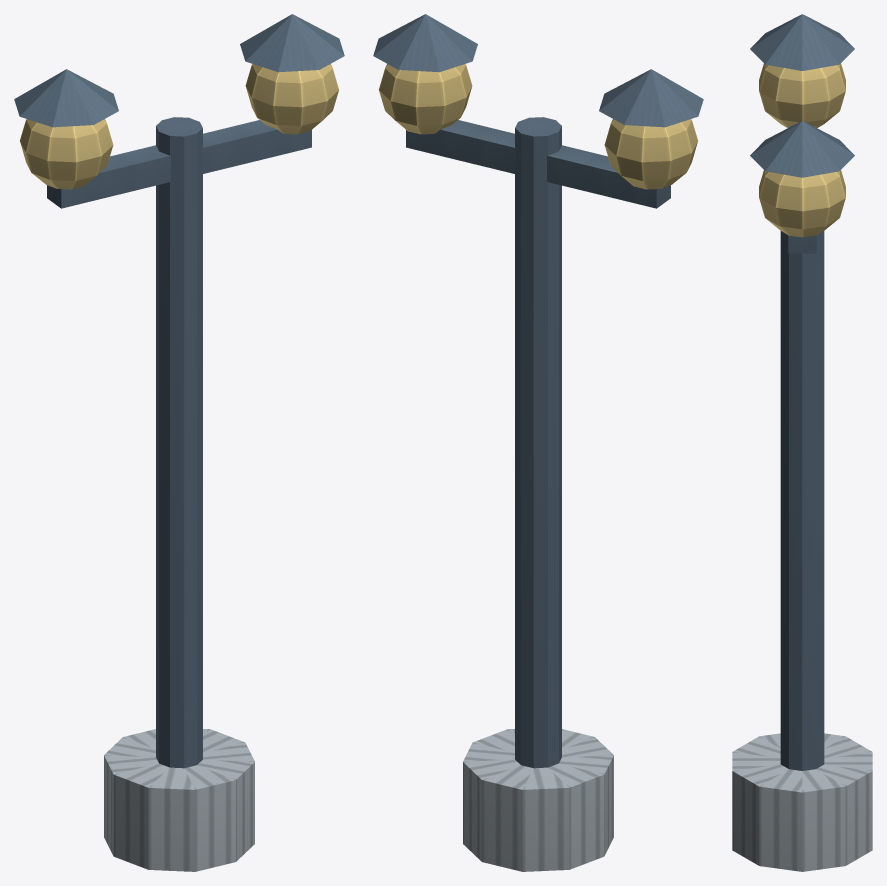
The model's file is street_lamp_vintage.glb.
The picture shows the model from 3 angles, left to right: view 1: azimuth 30°, elevation 25°; view 2: azimuth 150°, elevation 25°; view 3: azimuth 270°, elevation 25°; orthographic projection. The views are drawn at different scales.
Visible parts, largest first — view 1: street_lamp_vintage; view 2: street_lamp_vintage; view 3: street_lamp_vintage.
Boxes of the visible parts, <box> form: street_lamp_vintage: <box>14,14,344,871</box>; street_lamp_vintage: <box>373,14,703,871</box>; street_lamp_vintage: <box>732,14,872,871</box>.
Bounding box in the file's own units: 2.04 × 4.87 × 0.7989.
Materials: 1 (1 with a texture image).
